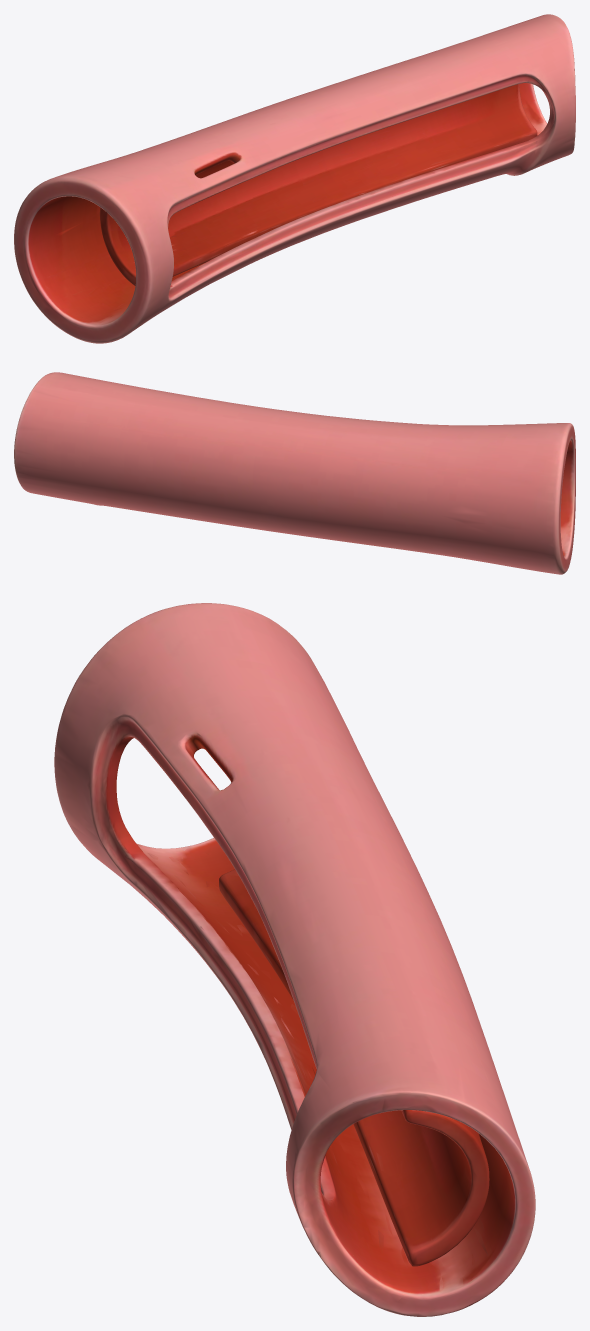
The model's file is vessel.glb.
3 views of the same model, one above another, from view 1: azimuth 30°, elevation 25°; view 2: azimuth 150°, elevation 25°; view 3: azimuth 270°, elevation 25° (orthographic). The views are drawn at different scales.
Parts seen in each view (by area): view 1: node_0; view 2: node_0; view 3: node_0.
Boxes of the visible parts, left/top/right/bottom form: node_0: left=14, top=14, right=575, bottom=343; node_0: left=14, top=372, right=575, bottom=574; node_0: left=54, top=603, right=535, bottom=1316.
Size of the model in its own units: 1.11 by 0.2965 by 0.4695.
Materials: 1 (1 with a texture image).
